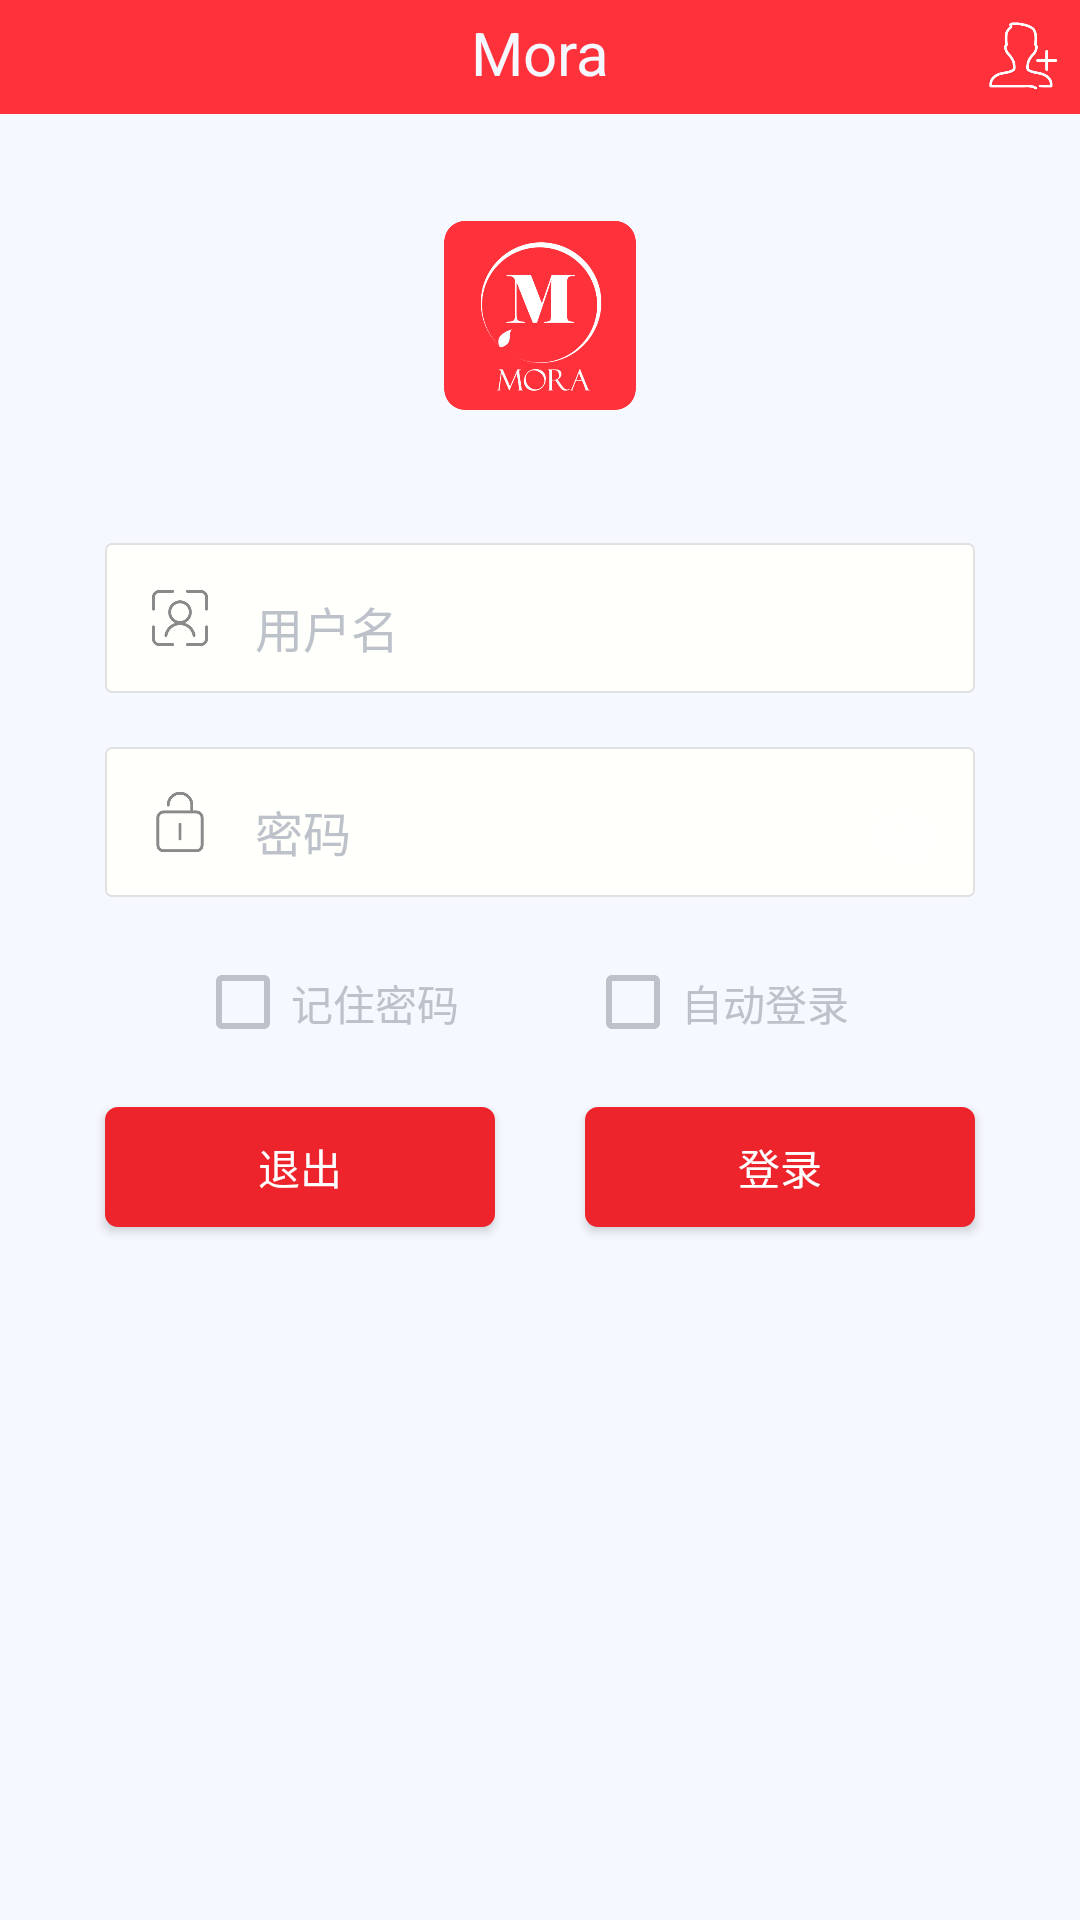

Named icons in this screenshot (1080px x 1920px) and their bounding boxes, bbox=[x1, y1, x2, y2]:
adduser: bbox=[989, 22, 1058, 90]
